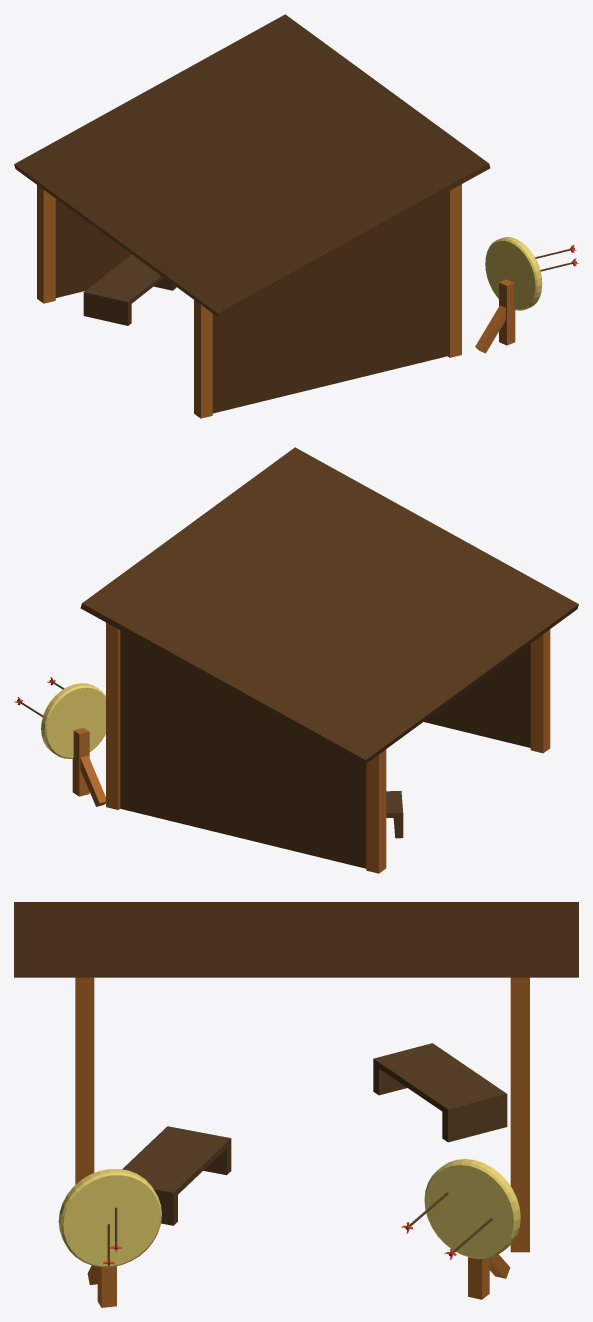
File: Strzelnica.fbx
3 renders of one model, top to bottom at view 1: azimuth 30°, elevation 25°; view 2: azimuth 150°, elevation 25°; view 3: azimuth 270°, elevation 25°, orthographic. The views are drawn at different scales.
Visible parts, largest first — view 1: Cube; view 2: Cube; view 3: Cube.
Boxes of the visible parts, x1,y1,x2,y2 form: Cube: (14, 14, 578, 418); Cube: (14, 447, 578, 873); Cube: (14, 902, 578, 1307).
Bounding box in the file's own units: 891 × 469 × 798.
